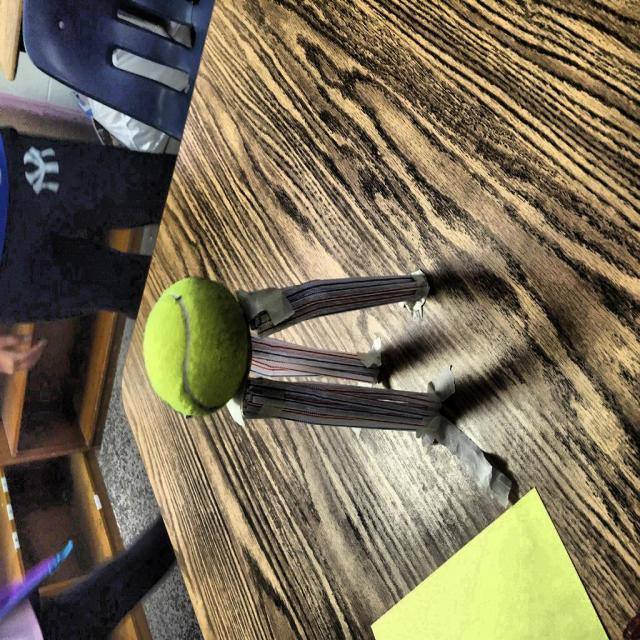tennis-ball: (140, 273, 261, 427)
